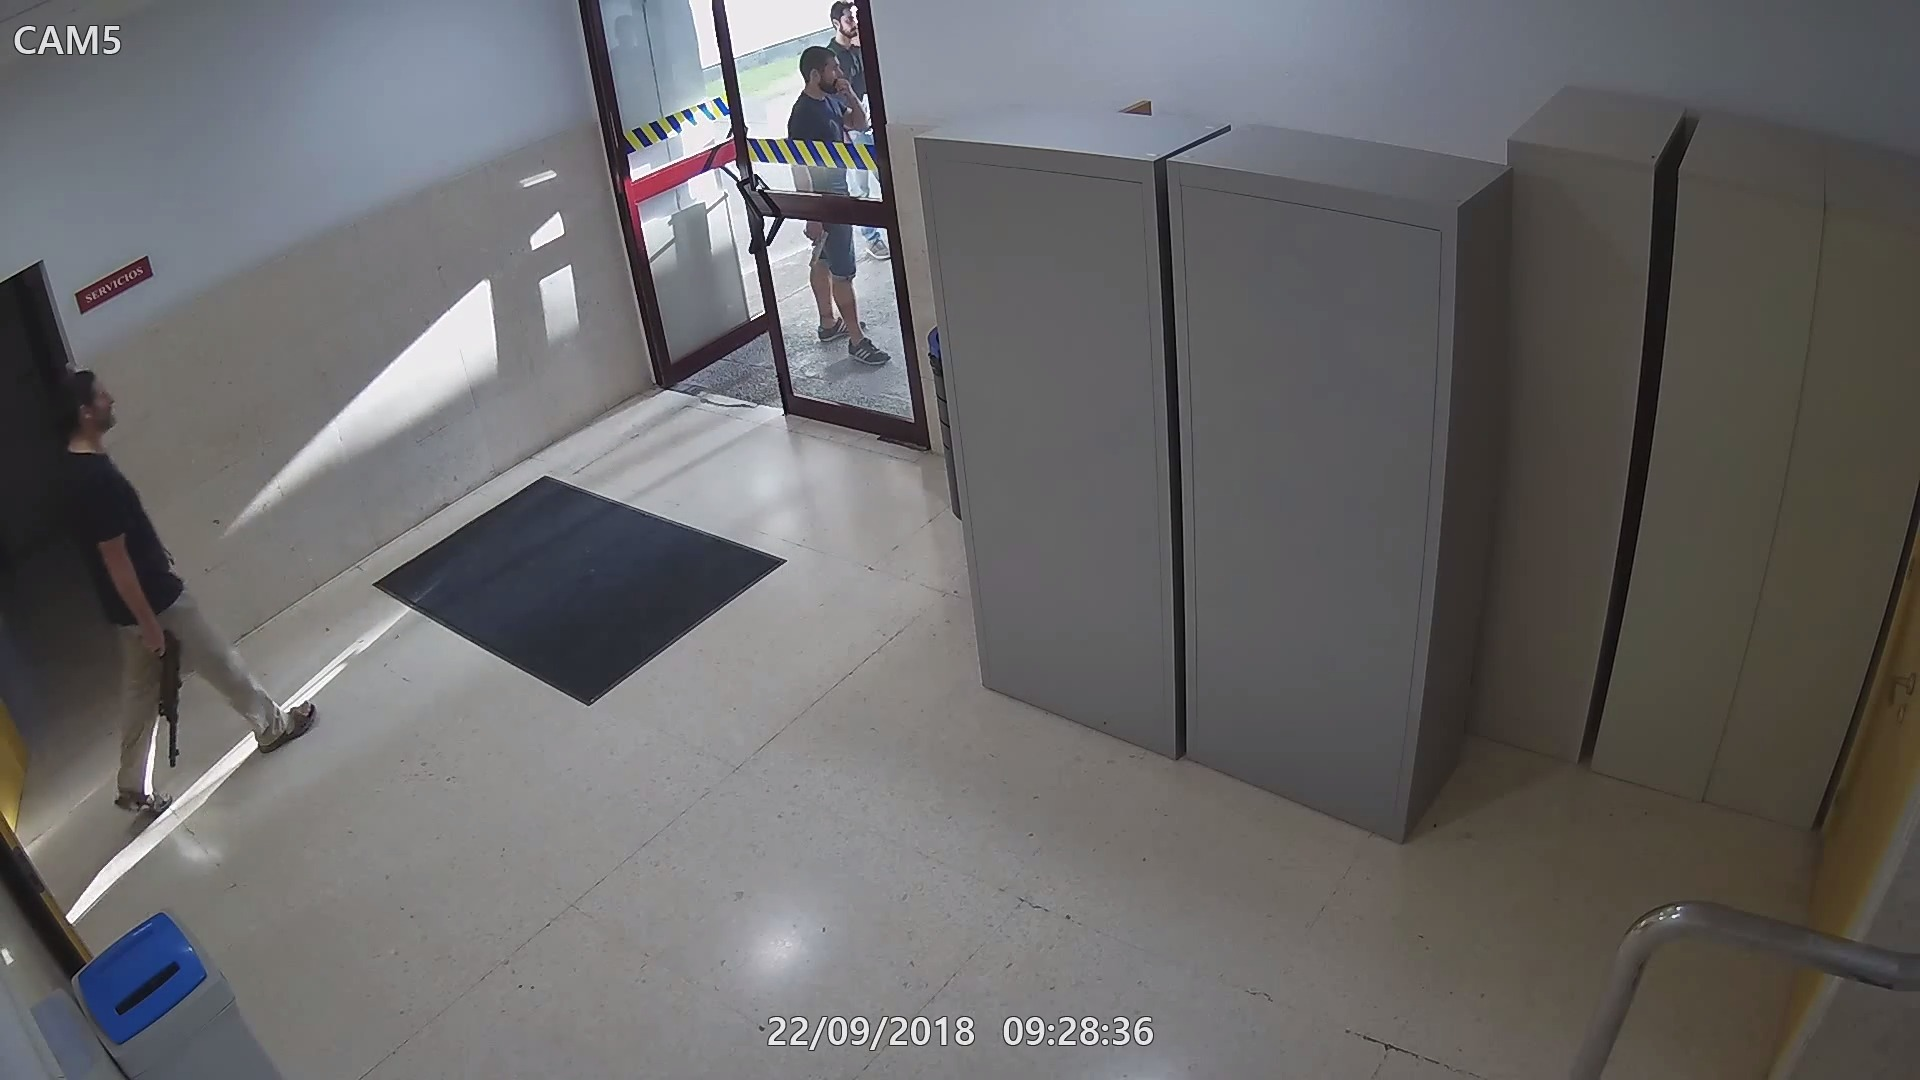Handgun: (794, 216, 831, 272)
Short_rifle: (131, 617, 185, 766)
